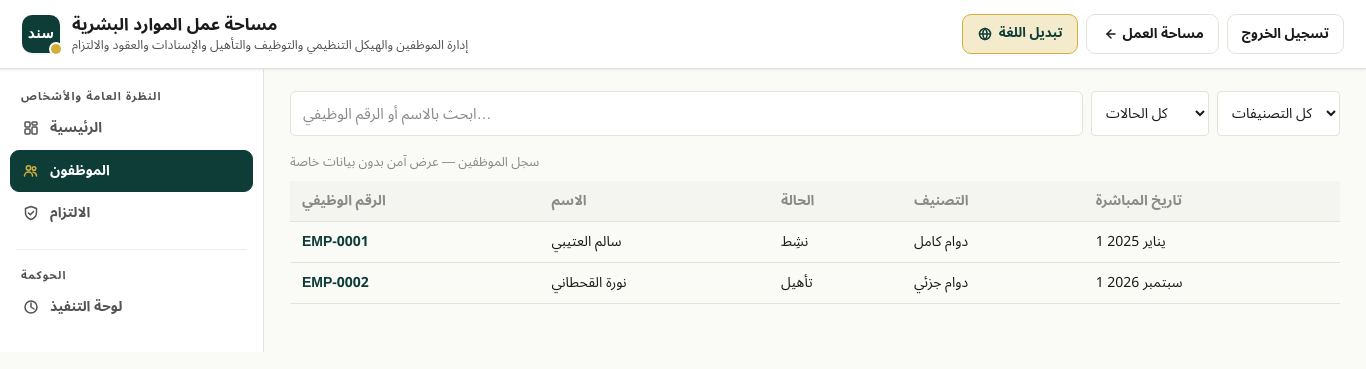
it: Employee Directory › filters rows by status
The width and height of the screenshot is (1366, 369).
Expected: the text "سالم العتيبي" is shown, x1=539 y1=221 x2=769 y2=262
Select "نشِط" in the dropdown named "الحالة الوظيفية". click: [1150, 114]
box: x1=1091 y1=91 x2=1209 y2=136
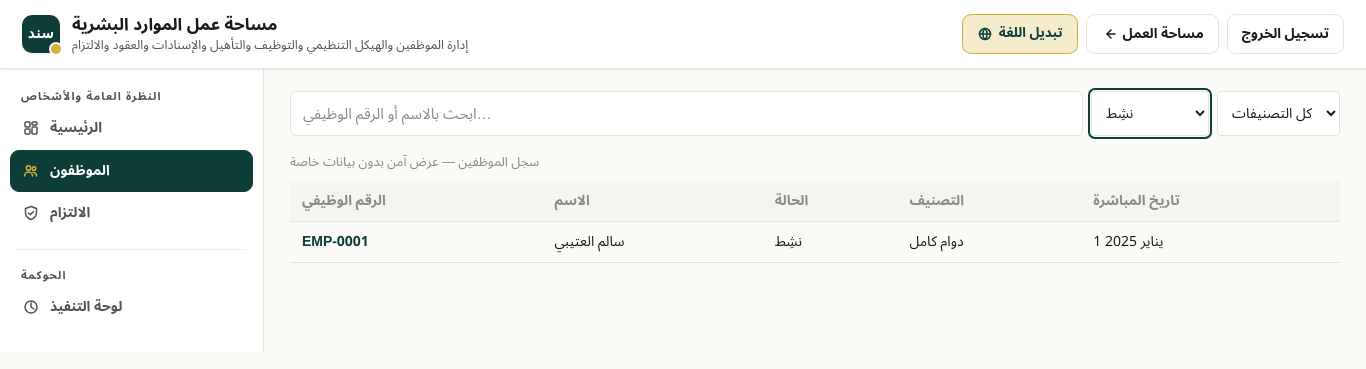
Expected: the text "سالم العتيبي" is shown, x1=542 y1=221 x2=763 y2=262
Now the text "نورة القحطاني" is gone
